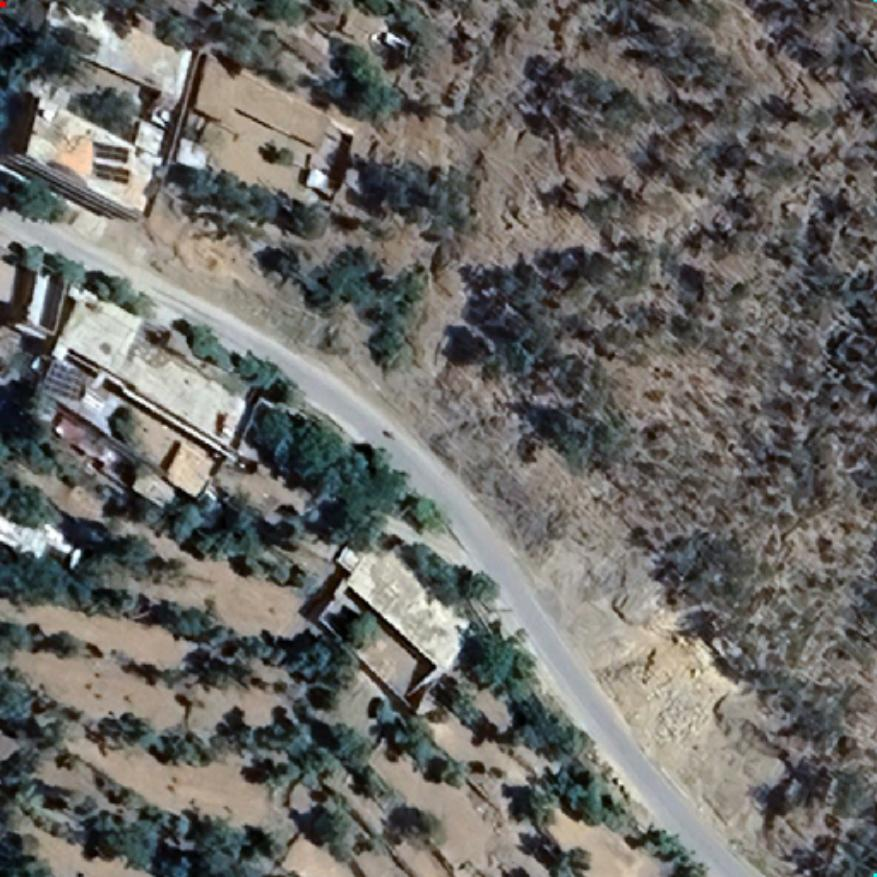Solarpanel: (41, 359, 89, 402), (90, 162, 131, 186), (90, 142, 128, 162)
